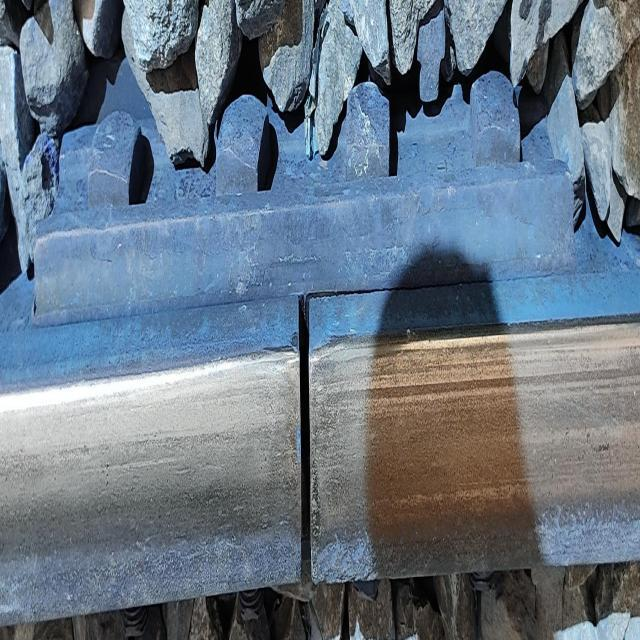Good Joint: (31, 65, 576, 323)
